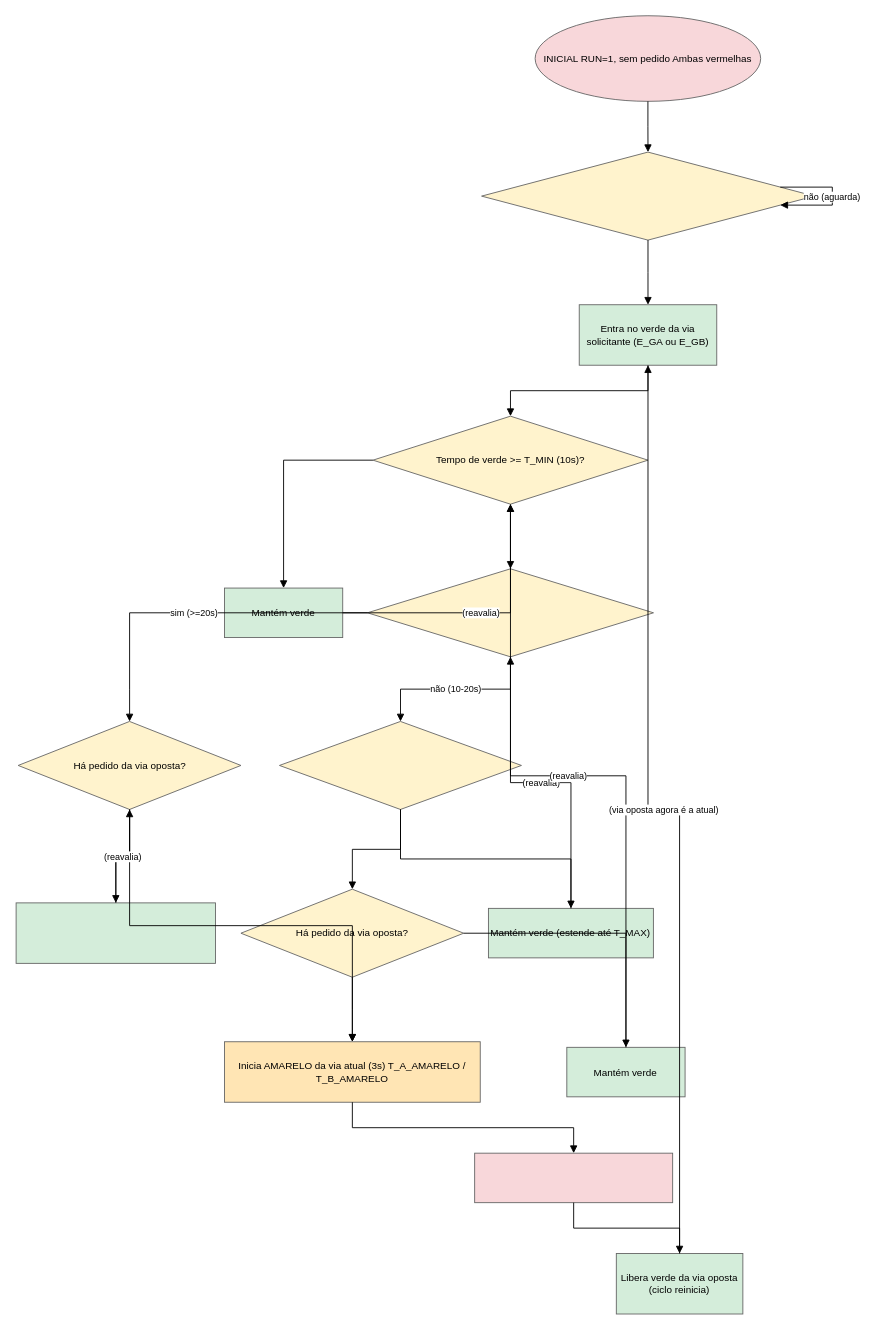
The diagram is 876 pixels wide and 1330 high, and some of its shapes have lost their labels. Each missing label, with the box of its shape:
Ambas VERMELHAS (1s) T_PARA_A / T_PARA_B: (474, 1152, 673, 1203)
Há pedido (PED_A ou PED_B)?: (481, 151, 814, 240)
Há presença na própria via?: (279, 721, 521, 809)
Mantém verde (sem limite enquanto não houver pedido oposto): (15, 902, 215, 963)
Tempo de verde >= T_MAX (20s)?: (367, 568, 653, 657)
